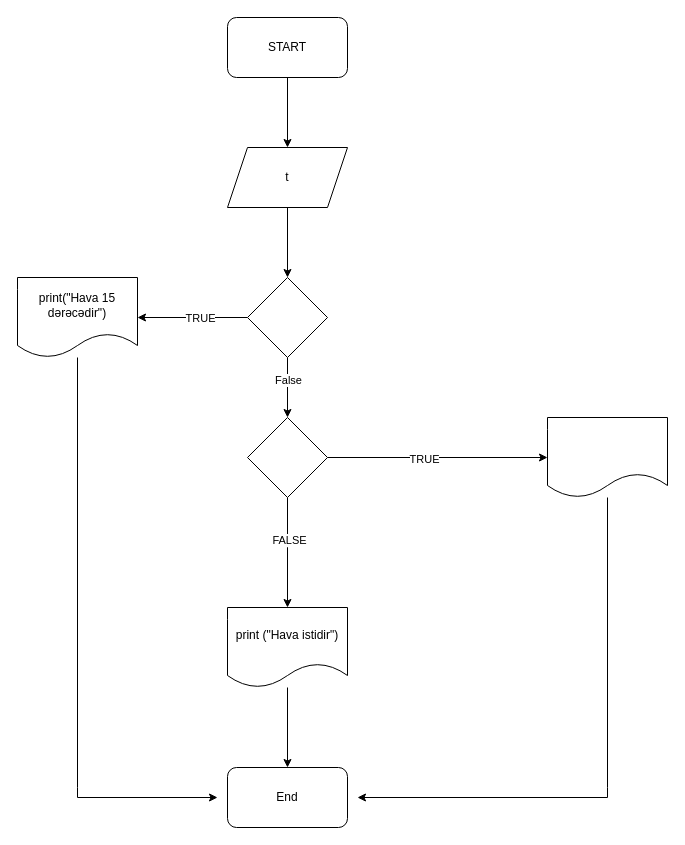
Some shapes in this 685 by 845 pixel diagram are drawn without their labels. The shapes that lost their labels are listed below. From the top down, each one's centre as x and y in pixels, then its label:
(x=287, y=317): t == 15
(x=287, y=457): t < 15
(x=607, y=457): print("Hava Soyuqdur")
